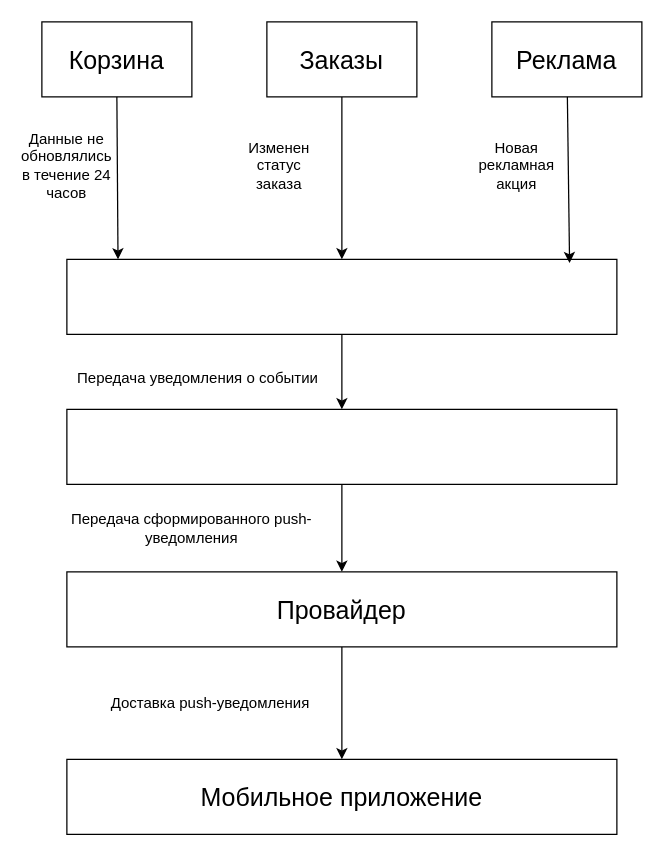
This 664x856 diagram has some shape labels left out. The shapes that lost their labels are listed below. From the top down, each one's box as (x1, y1, x2, y2) in pixels, then its label:
(66, 258, 617, 334): Очередь сообщений
(66, 408, 617, 484): Сервис уведомлений
